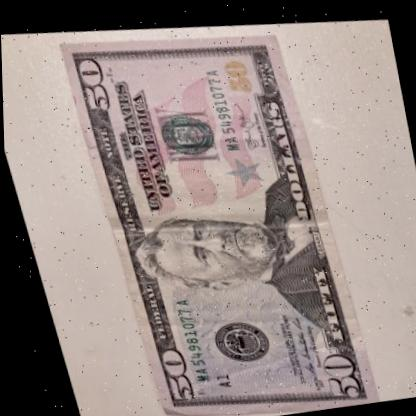fifty-front: (55, 1, 374, 416)
